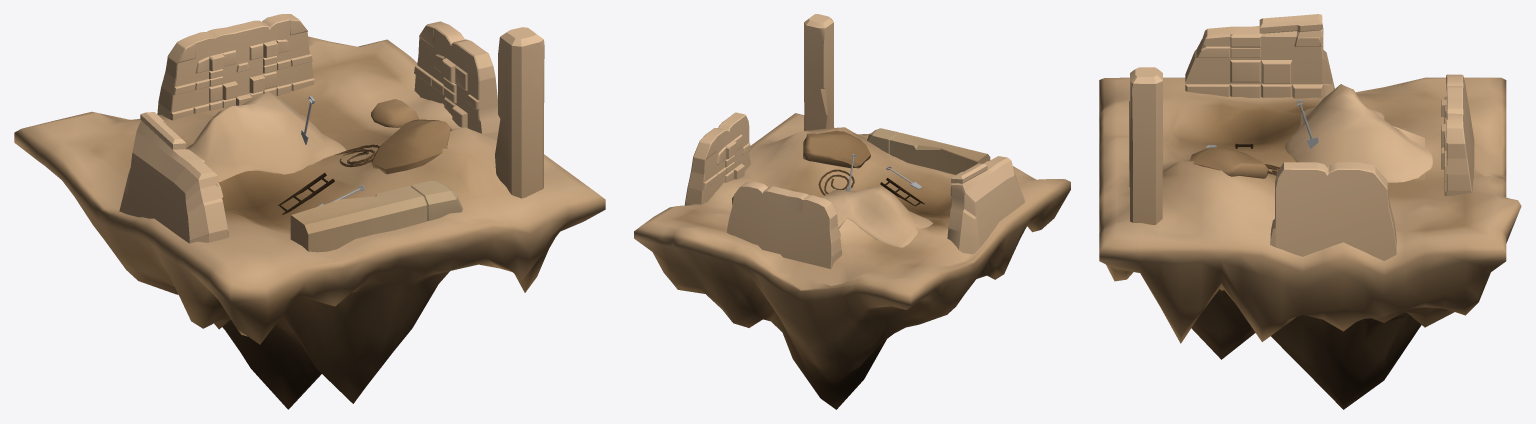
Rendered from Desert_set.fbx.
3 views of the same model, side by side, from view 1: azimuth 30°, elevation 25°; view 2: azimuth 150°, elevation 25°; view 3: azimuth 270°, elevation 25° (orthographic). The views are drawn at different scales.
Visible parts, largest first — view 1: DesertDiarama_1, Desert_Wall_MD2, Desert_Wall_SM, DirtPile, Desert_Column_1, Desert_Column_2, Desert_Wall_MD, Desert_Rock_LG, Desert_Rock_SM; view 2: DesertDiarama_1, Desert_Wall_MD2, Desert_Wall_SM, Desert_Wall_MD, DirtPile, Desert_Column_1, Desert_Column_2, Desert_Rock_LG; view 3: DesertDiarama_1, Desert_Wall_MD, Desert_Wall_SM, DirtPile, Desert_Column_1, Desert_Wall_MD2, Desert_Rock_LG.
Part boxes in pixels (bbox=[...]): DesertDiarama_1: bbox=[14, 36, 605, 409]; Desert_Wall_MD2: bbox=[157, 14, 314, 120]; Desert_Wall_SM: bbox=[119, 112, 228, 243]; DirtPile: bbox=[185, 91, 346, 182]; Desert_Column_1: bbox=[495, 27, 544, 198]; Desert_Column_2: bbox=[290, 181, 462, 252]; Desert_Wall_MD: bbox=[414, 21, 500, 133]; Desert_Rock_LG: bbox=[371, 119, 451, 174]; Desert_Rock_SM: bbox=[371, 99, 418, 127]; DesertDiarama_1: bbox=[634, 113, 1070, 409]; Desert_Wall_MD2: bbox=[726, 181, 841, 268]; Desert_Wall_SM: bbox=[947, 156, 1024, 254]; Desert_Wall_MD: bbox=[684, 112, 750, 205]; DirtPile: bbox=[821, 186, 932, 247]; Desert_Column_1: bbox=[804, 14, 833, 130]; Desert_Column_2: bbox=[867, 128, 990, 175]; Desert_Rock_LG: bbox=[803, 130, 870, 168]; DesertDiarama_1: bbox=[1099, 77, 1521, 409]; Desert_Wall_MD: bbox=[1270, 162, 1396, 260]; Desert_Wall_SM: bbox=[1185, 14, 1334, 98]; DirtPile: bbox=[1285, 84, 1432, 182]; Desert_Column_1: bbox=[1130, 67, 1162, 224]; Desert_Wall_MD2: bbox=[1441, 74, 1474, 196]; Desert_Rock_LG: bbox=[1189, 147, 1268, 178].
Size of the model in its own units: 10 by 10.76 by 10.38.
2 materials, 1 textured.
